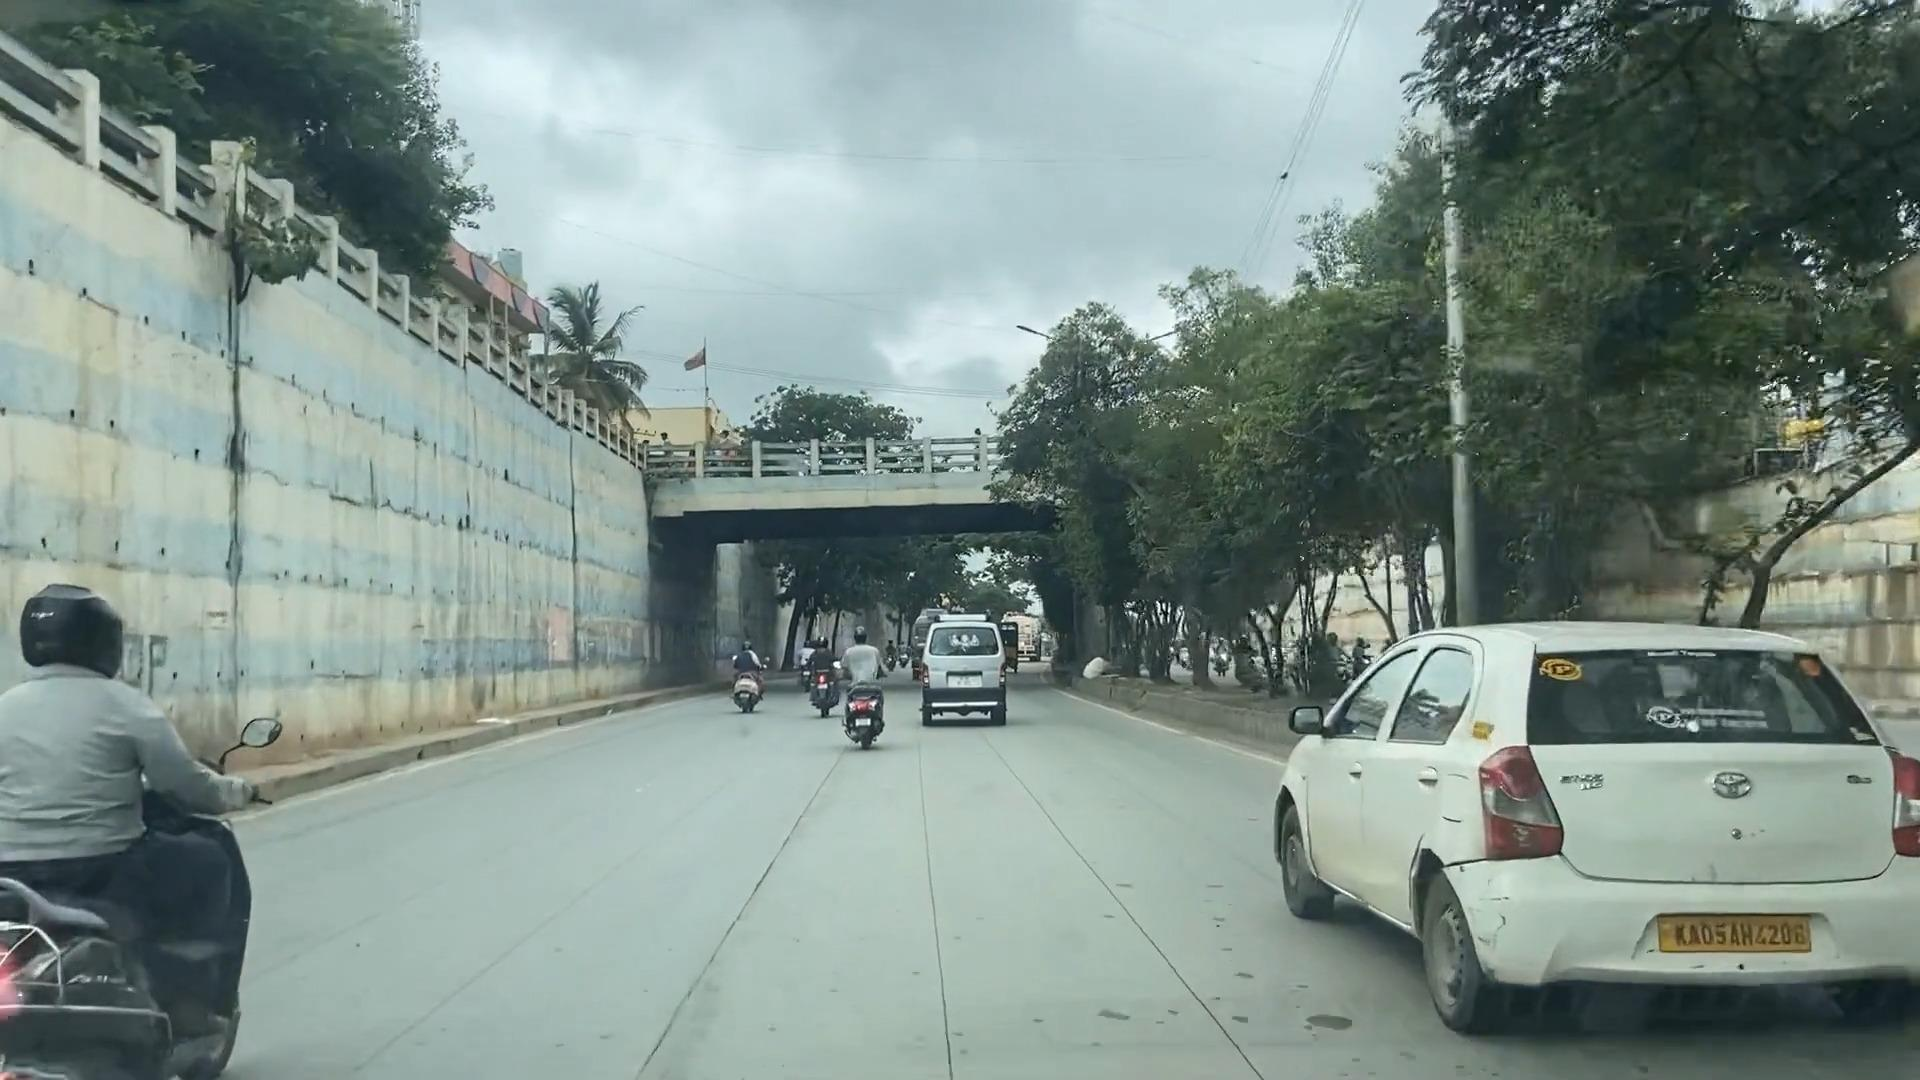LMV: (1208, 603, 1920, 1038), (0, 575, 284, 1080)
